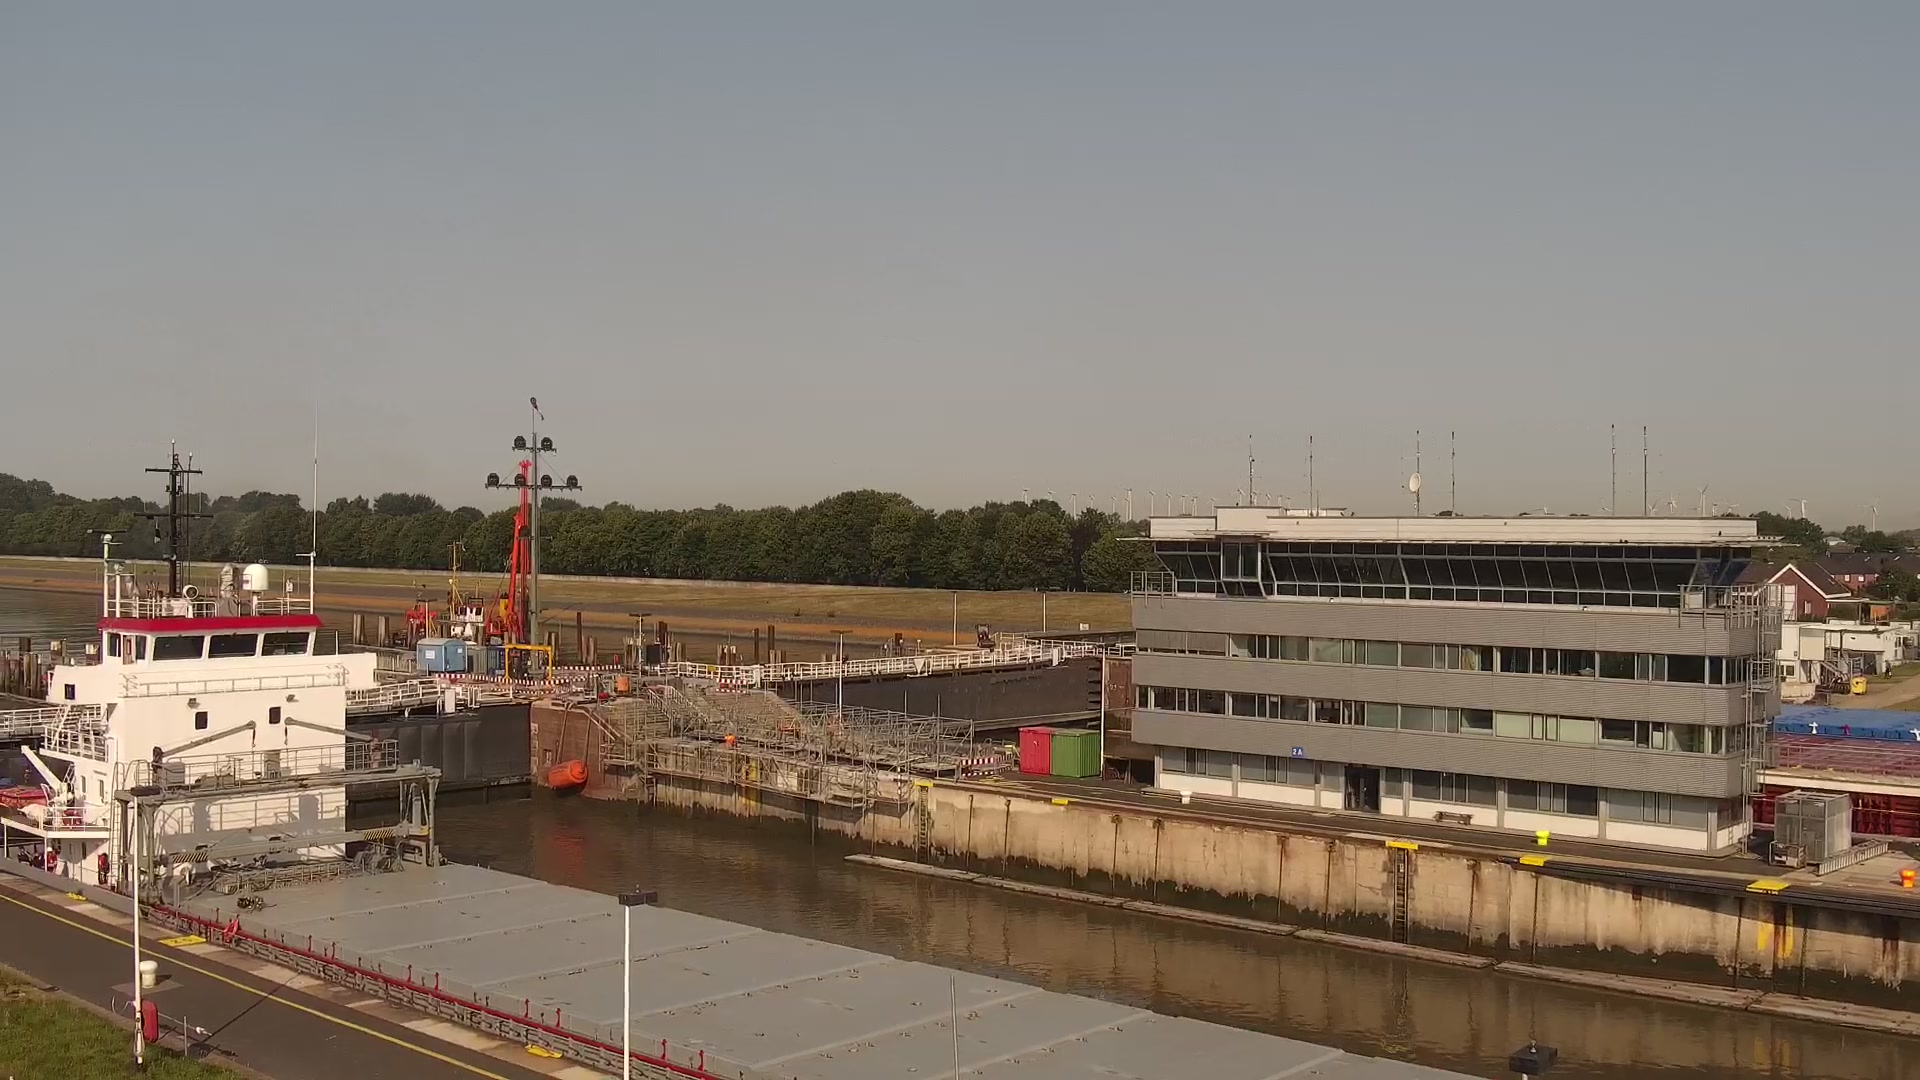human: (98, 851, 110, 883), (223, 918, 234, 945), (47, 849, 58, 873), (724, 733, 736, 749), (1884, 659, 1892, 679)
sea: (1, 435, 1481, 1080)
